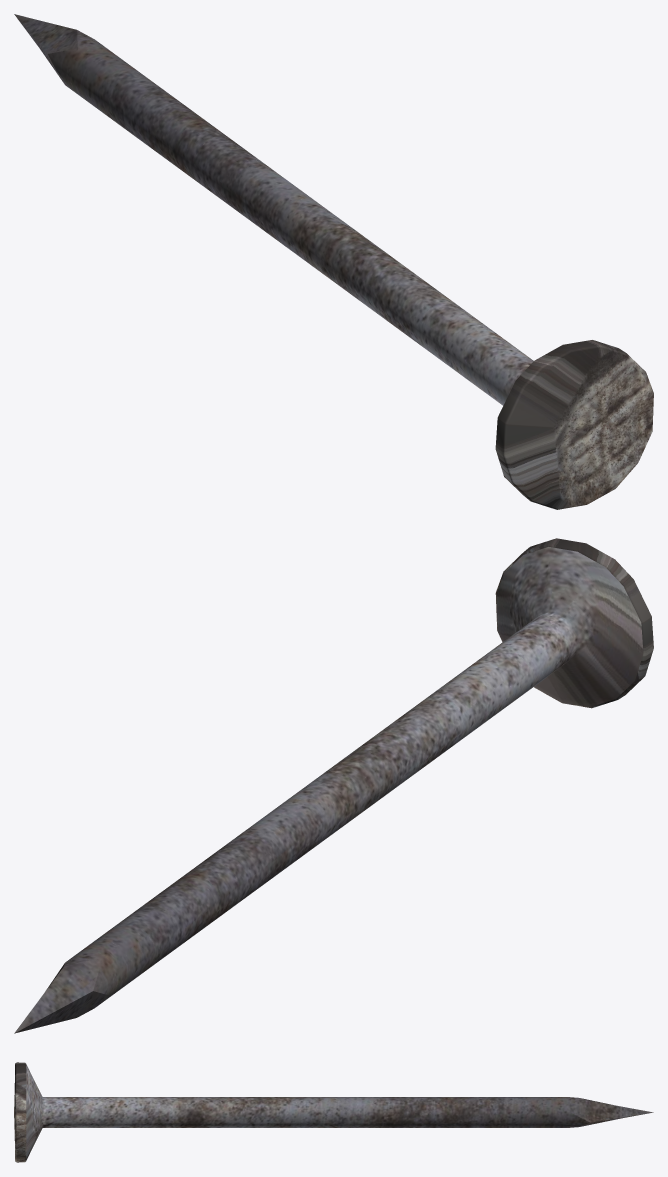
File: Rusty_Nail_obj.obj
The picture shows the model from 3 angles, top to bottom: view 1: azimuth 30°, elevation 25°; view 2: azimuth 150°, elevation 25°; view 3: azimuth 270°, elevation 25°; orthographic projection. The views are drawn at different scales.
Visible parts, largest first — view 1: Rusty_Nail_obj:Rusty_NailRusty_Nail; view 2: Rusty_Nail_obj:Rusty_NailRusty_Nail; view 3: Rusty_Nail_obj:Rusty_NailRusty_Nail.
Part boxes in pixels (x1,y1,x2,y2): Rusty_Nail_obj:Rusty_NailRusty_Nail: (14, 14, 653, 509); Rusty_Nail_obj:Rusty_NailRusty_Nail: (14, 538, 653, 1033); Rusty_Nail_obj:Rusty_NailRusty_Nail: (14, 1062, 653, 1162).
Size of the model in its own units: 0.0783 by 0.0787 by 0.5076.
Materials: 1 (1 with a texture image).
